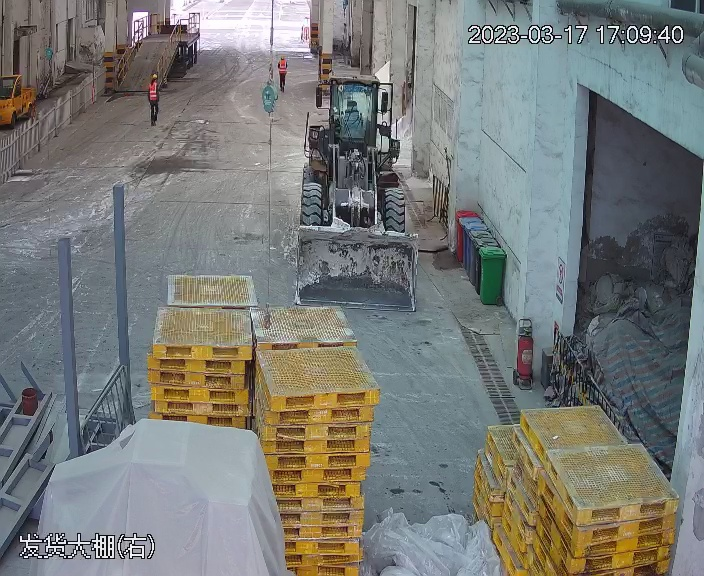head: (147, 73, 160, 89)
helmet: (150, 73, 157, 79)
people: (146, 73, 162, 125), (278, 55, 289, 91)
